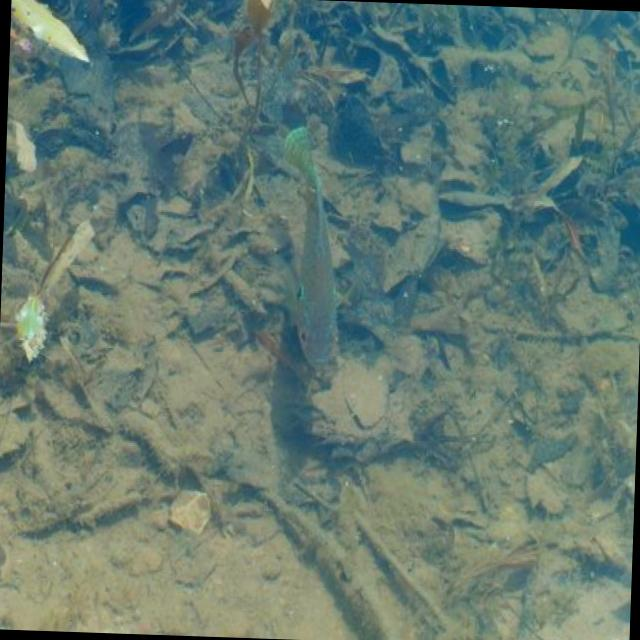Gunes Levregi: (270, 119, 358, 390)
